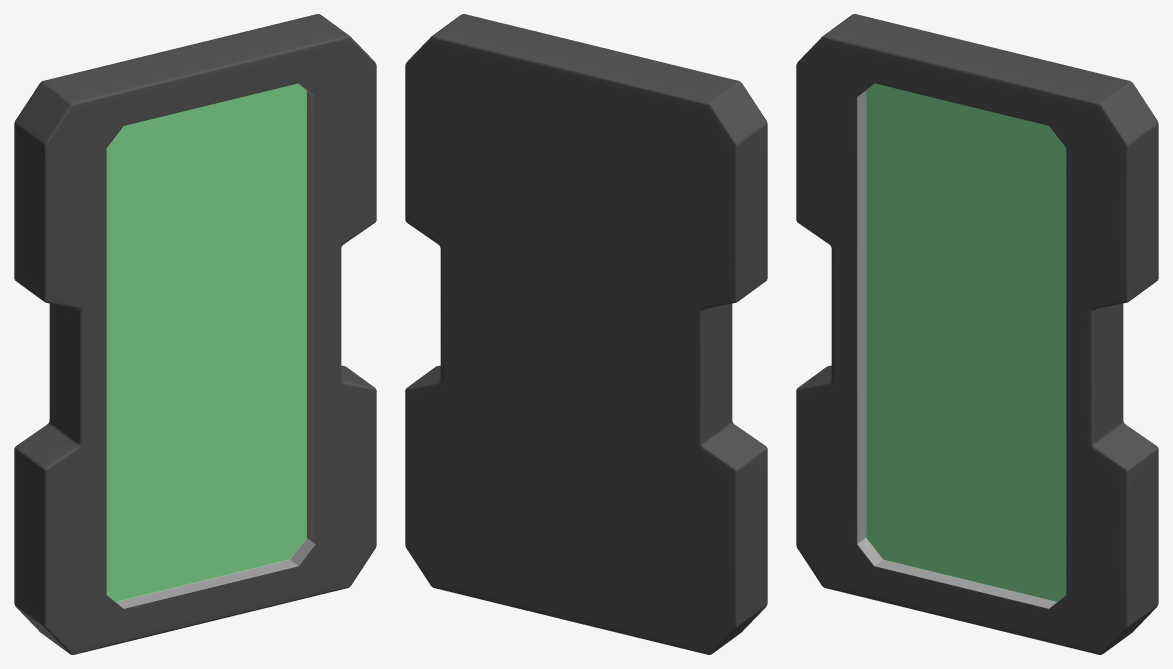
The model's file is Card Scanner.fbx.
The picture shows the model from 3 angles, left to right: view 1: azimuth 30°, elevation 25°; view 2: azimuth 150°, elevation 25°; view 3: azimuth 330°, elevation 25°; orthographic projection.
Visible parts, largest first — view 1: pCube3; view 2: pCube3; view 3: pCube3.
Part boxes in pixels (<box>): pCube3: <box>14,14,376,654</box>; pCube3: <box>405,14,767,654</box>; pCube3: <box>796,14,1158,654</box>.
Bounding box in the file's own units: 6.61 × 10.49 × 1.09.
